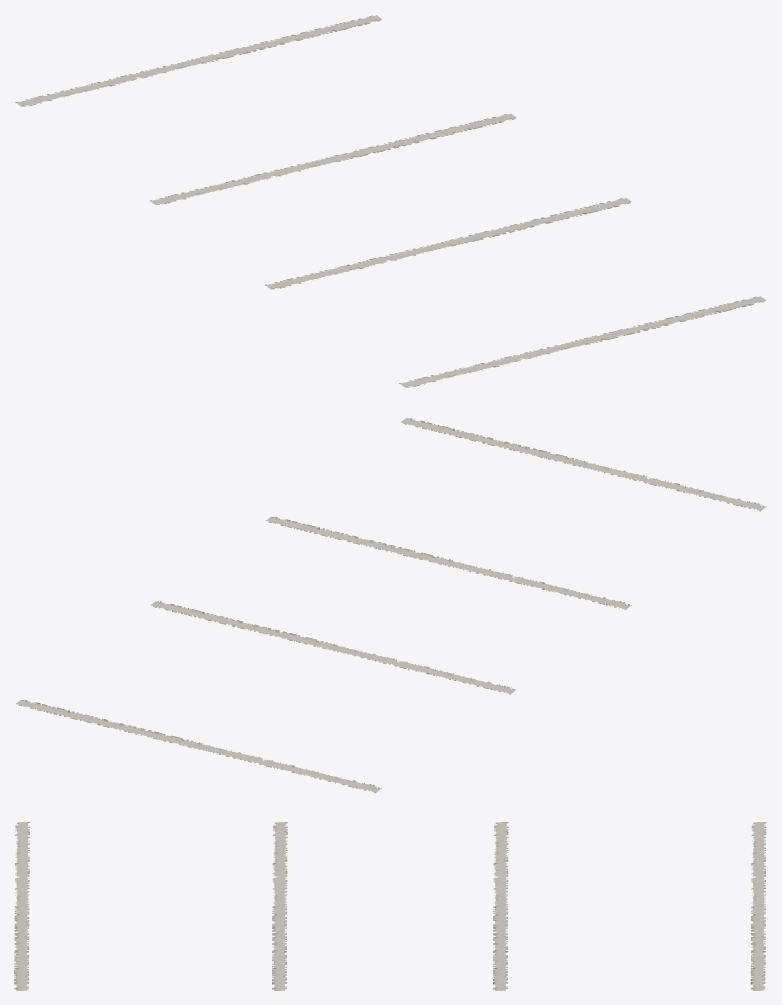
File: Park-08.fbx
The picture shows the model from 3 angles, top to bottom: view 1: azimuth 30°, elevation 25°; view 2: azimuth 150°, elevation 25°; view 3: azimuth 270°, elevation 25°; orthographic projection. The views are drawn at different scales.
Visible parts, largest first — view 1: Park-08; view 2: Park-08; view 3: Park-08.
Part boxes in pixels (left/top/right/bottom): Park-08: left=15, top=15, right=765, bottom=387; Park-08: left=16, top=418, right=766, bottom=792; Park-08: left=14, top=822, right=766, bottom=990.
Size of the model in its own units: 5.8 by 0 by 10.95.
